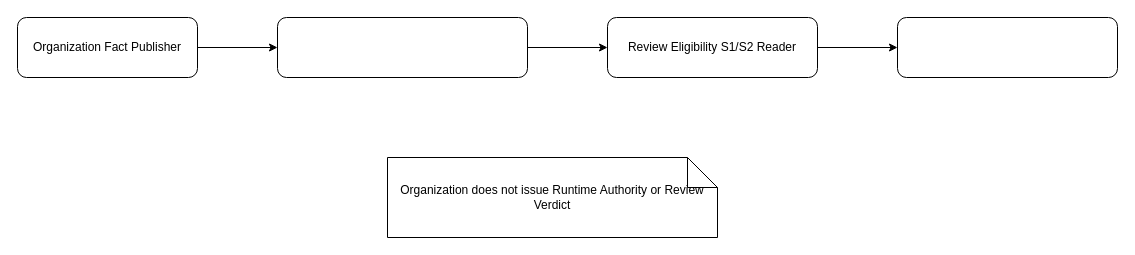
Some shapes in this 1135 by 255 pixel diagram are drawn without their labels. The shapes that lost their labels are listed below. From the top down, each one's box as (x1, y1, x2, y2) in pixels, then its label:
(276, 16, 528, 78): Append-only History + Full-Ref Current CAS
(896, 16, 1118, 78): Host Adapter maps fields to Review nominal refs
